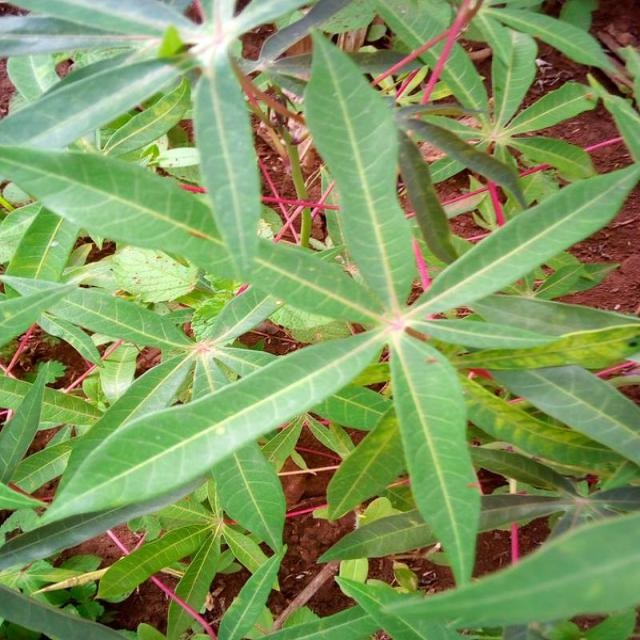cassava leaf: (1, 3, 638, 625), (1, 323, 388, 573), (302, 28, 418, 312)
